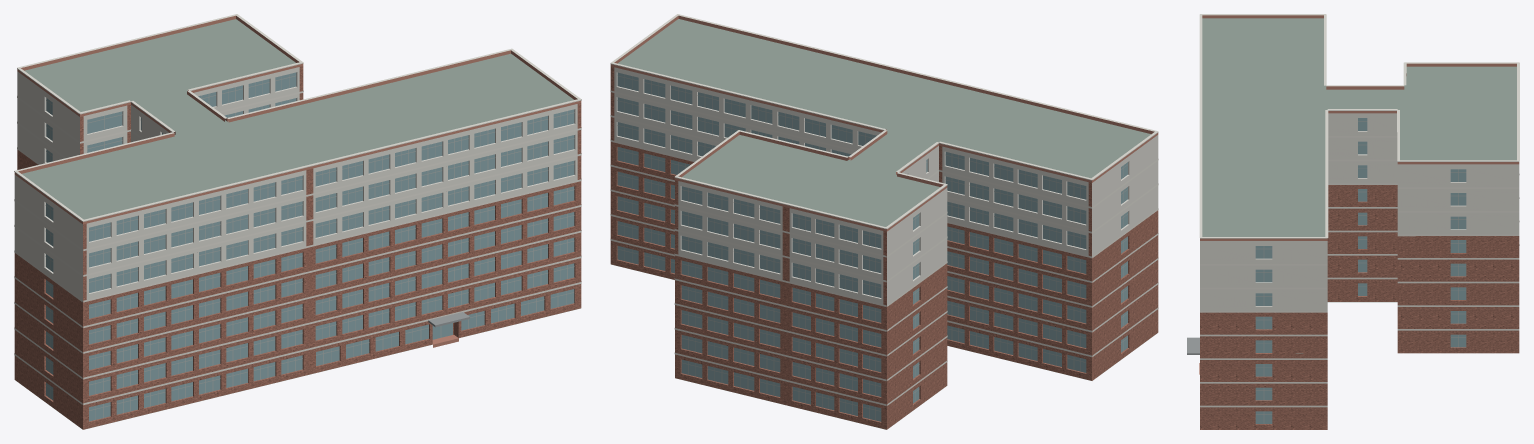
3 views of the same model, side by side, from view 1: azimuth 30°, elevation 25°; view 2: azimuth 150°, elevation 25°; view 3: azimuth 270°, elevation 25° (orthographic). The views are drawn at different scales.
Visible parts, largest first — view 1: industry__glass, industry__wall, industry__roof, industry__wall2, industry__trim, industry__frame, industry__parapet; view 2: industry__wall, industry__glass, industry__roof, industry__wall2, industry__trim, industry__frame, industry__parapet; view 3: industry__roof, industry__wall, industry__wall2, industry__trim, industry__glass, industry__parapet, industry__frame.
Boxes of the visible parts, box(x1,y1,x2,y2) form: industry__glass: box(46, 72, 574, 421); industry__wall: box(14, 66, 581, 429); industry__roof: box(15, 19, 580, 429); industry__wall2: box(14, 67, 577, 300); industry__trim: box(14, 14, 581, 404); industry__frame: box(45, 74, 574, 419); industry__parapet: box(14, 15, 581, 224); industry__wall: box(610, 66, 1158, 429); industry__glass: box(617, 72, 1127, 421); industry__roof: box(612, 19, 1154, 429); industry__wall2: box(614, 67, 1158, 305); industry__trim: box(610, 14, 1158, 405); industry__frame: box(617, 74, 1127, 420); industry__parapet: box(610, 15, 1158, 231); industry__roof: box(1202, 18, 1516, 353); industry__wall: box(1200, 185, 1519, 429); industry__wall2: box(1200, 113, 1519, 310); industry__trim: box(1199, 14, 1519, 407); industry__glass: box(1255, 118, 1466, 423); industry__parapet: box(1200, 15, 1519, 240); industry__frame: box(1255, 121, 1466, 423).
Bounding box in the file's own units: 69.21 × 28.05 × 43.44.
10 materials, 1 textured.
